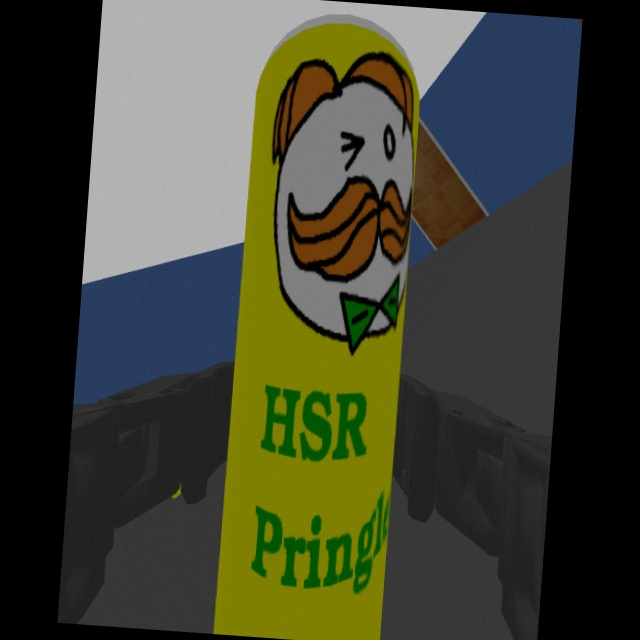chipsdose_gelb: (213, 15, 421, 640)
